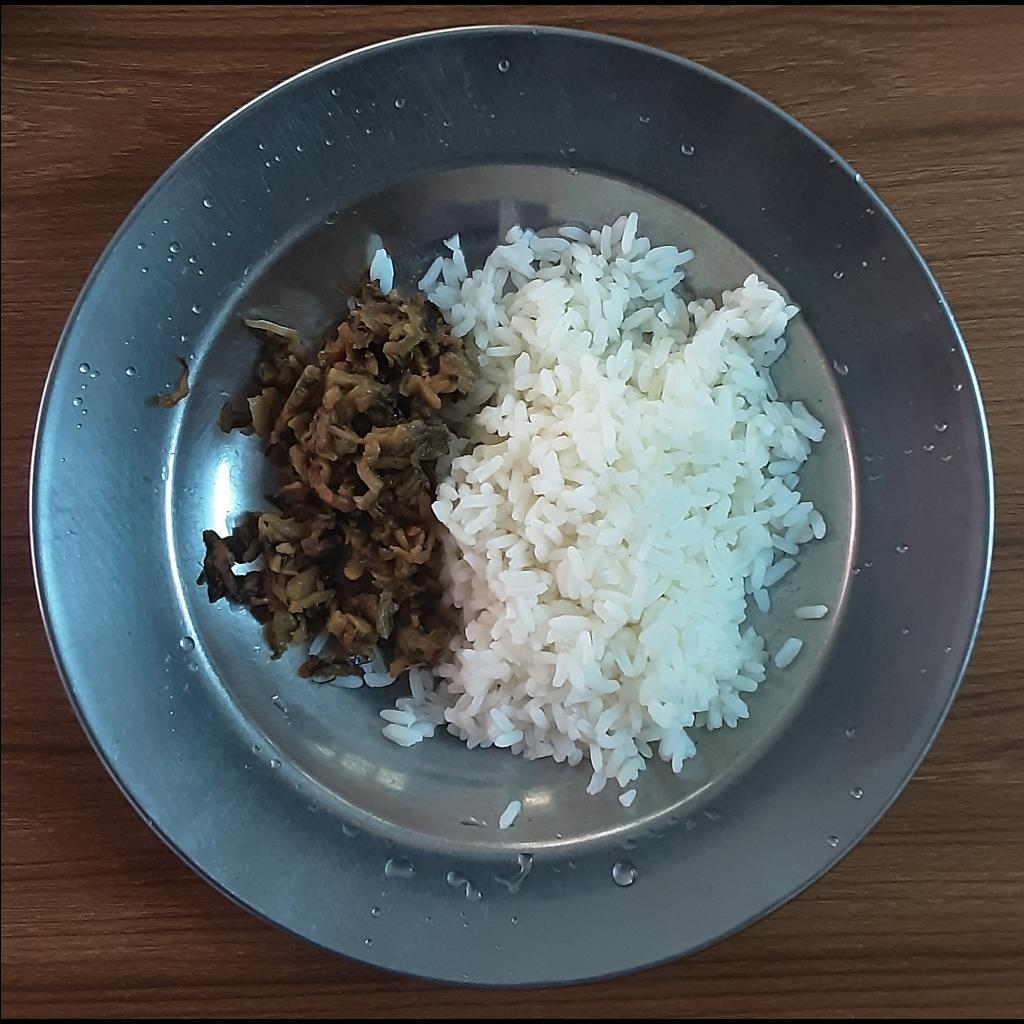korola-vaji: (196, 268, 478, 684)
rice: (371, 202, 831, 806), (497, 799, 521, 828), (796, 600, 829, 618)
